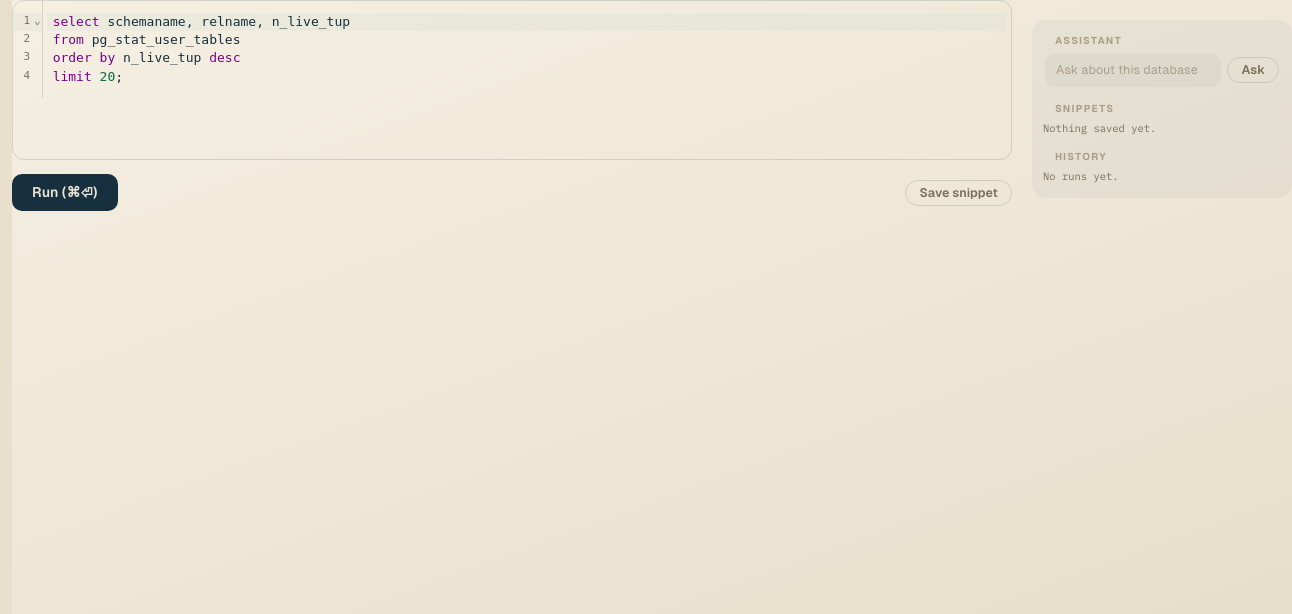
Test: SqlConsole › assistant proposal REPLACES the editor document and never auto-runs
This screenshot has width=1292, height=614.
Expected: the field named "SQL editor" shows "n_live_tup", top-left (264, 14), bottom-right (350, 29)
Step 1. Type "count templates" into the search field named "ask the assistant" → (1133, 70), box top-left (1045, 53), bottom-right (1221, 87)
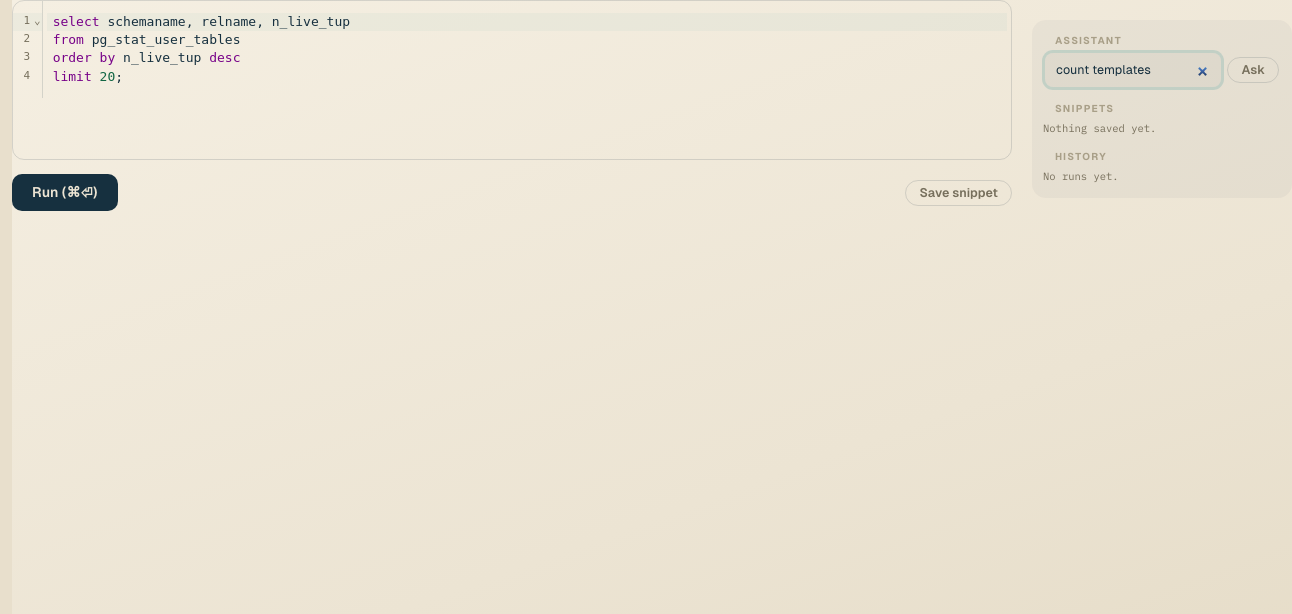
Step 2. Click the button "Ask" → click(1253, 70), box top-left (1227, 57), bottom-right (1279, 83)
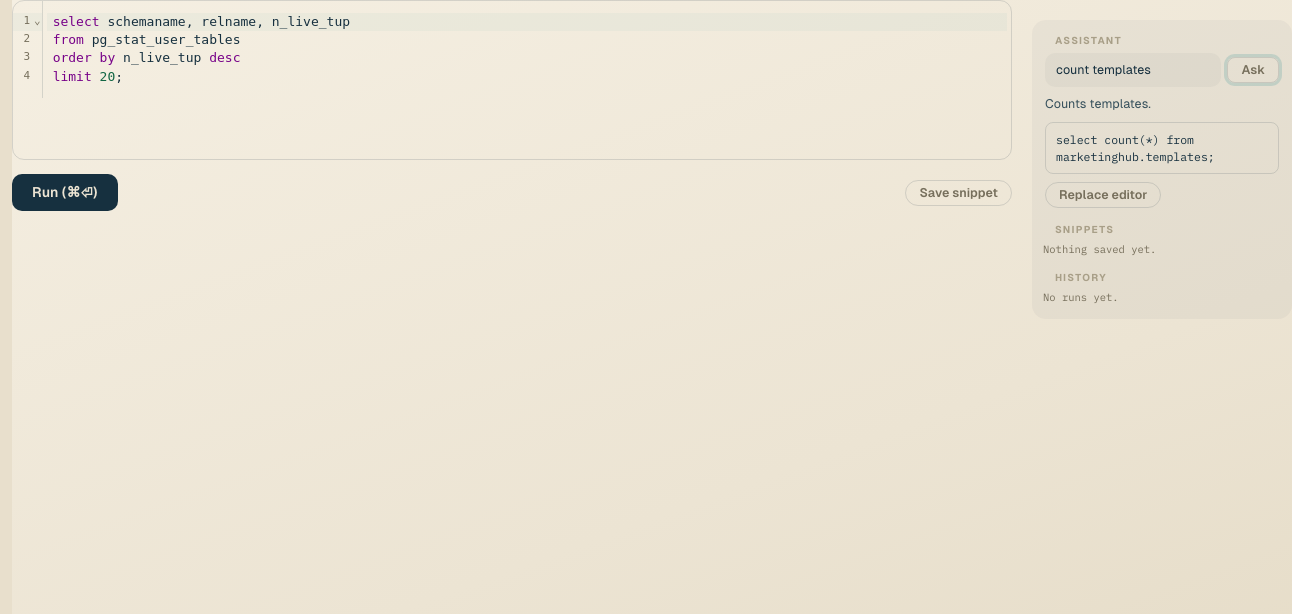
Step 3. Click the button "Replace editor" → click(1103, 195), box top-left (1045, 182), bottom-right (1161, 208)
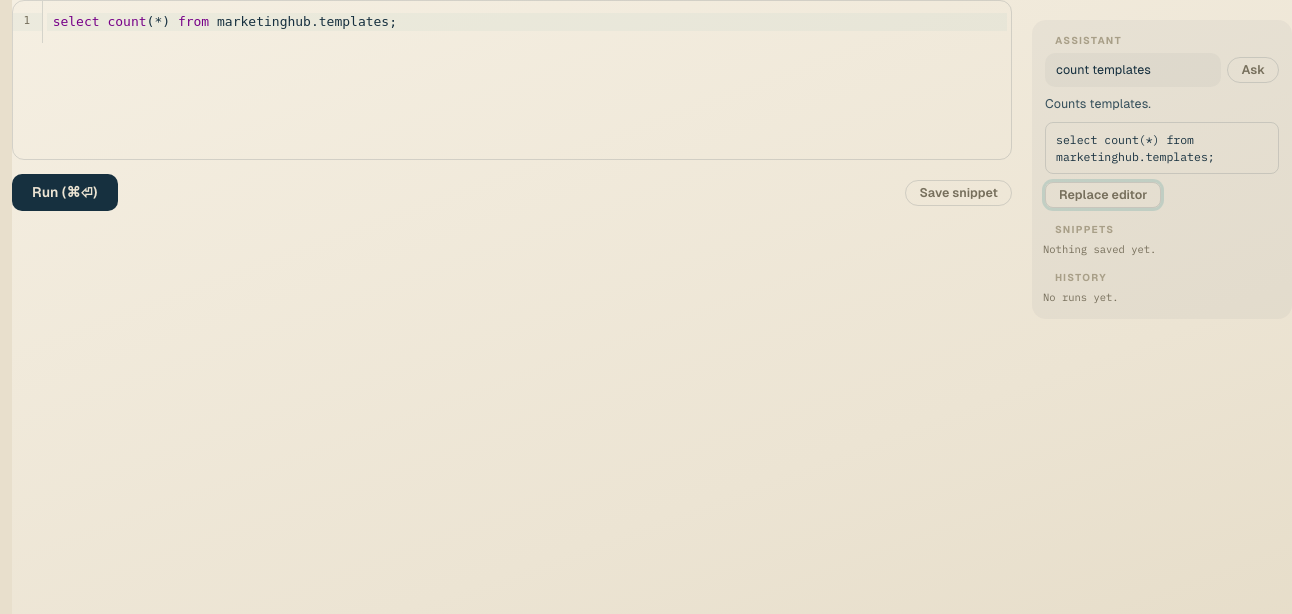
Expected: the field named "SQL editor" shows "select count(*) from marketinghub.templates;", top-left (12, 0), bottom-right (1012, 160)
Expected: the field labelled "SQL editor" no longer shows "n_live_tup"
